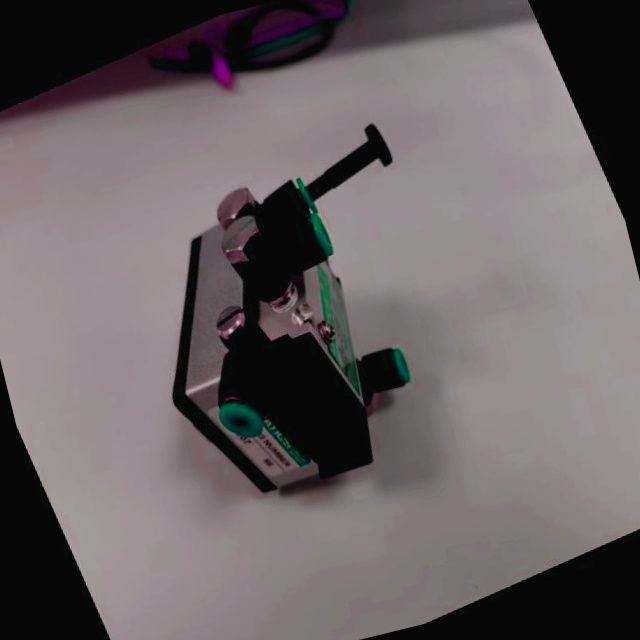5by2 DCV: (83, 96, 531, 553)
